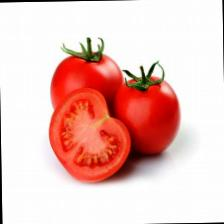tomato: (48, 87, 132, 182), (49, 36, 125, 124), (112, 64, 181, 155)
